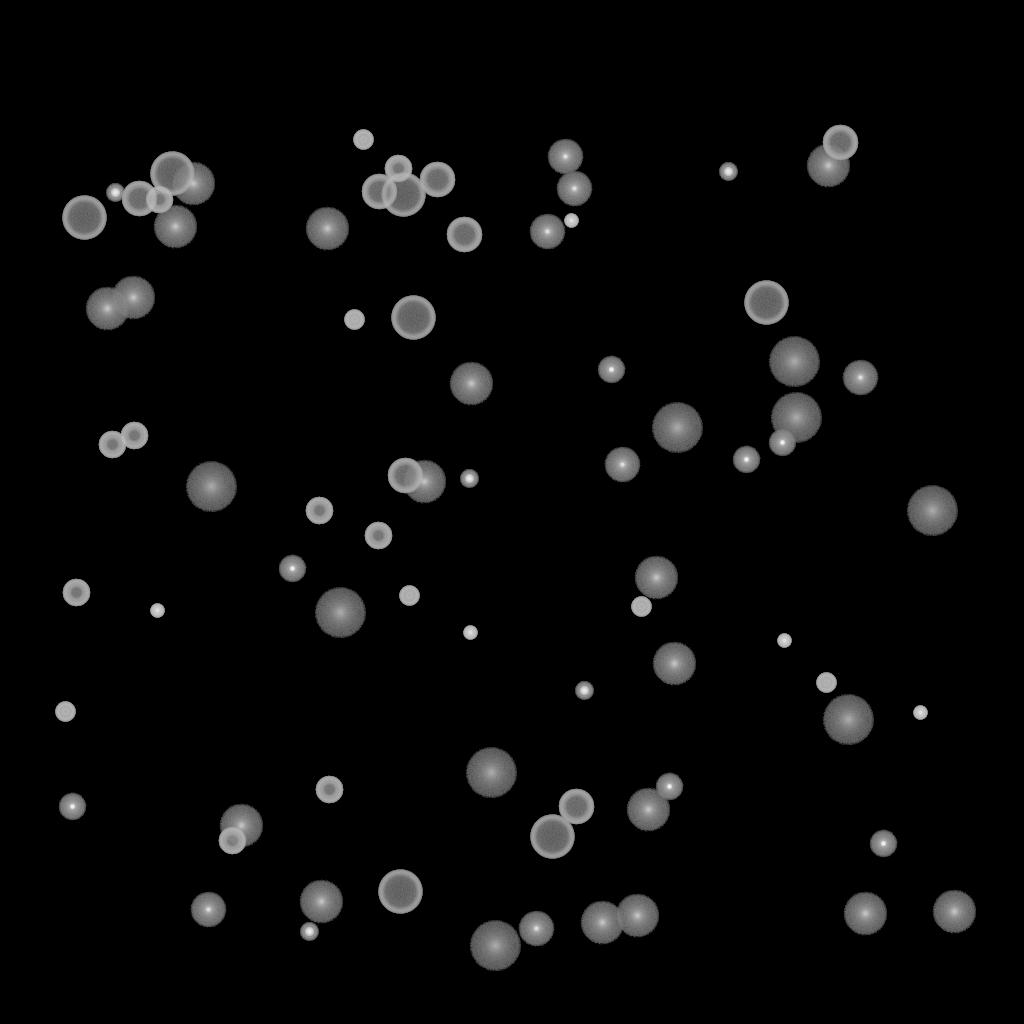depth:-10: (278, 555, 306, 583), (732, 446, 760, 474), (655, 773, 683, 801), (869, 830, 897, 858), (58, 793, 86, 821), (768, 429, 796, 457), (597, 356, 625, 384)
depth:-20: (460, 470, 478, 488), (719, 163, 737, 181), (106, 184, 124, 202), (300, 923, 318, 941), (575, 682, 593, 700)
depth:-30: (564, 214, 578, 228), (463, 626, 477, 640), (777, 634, 791, 648), (913, 706, 927, 720), (150, 604, 164, 618)
depth:-40: (55, 702, 75, 722), (399, 586, 419, 606), (353, 130, 373, 150), (631, 597, 651, 617), (816, 673, 836, 693), (344, 310, 364, 330)
depth:-50: (305, 497, 333, 525), (120, 422, 148, 450), (315, 776, 343, 804), (384, 155, 412, 183), (364, 522, 392, 550), (218, 827, 246, 855), (145, 186, 173, 214), (98, 431, 126, 459), (62, 579, 90, 607)
depth:-60: (361, 174, 397, 210), (822, 125, 858, 161), (121, 181, 157, 217), (446, 217, 482, 253), (387, 458, 423, 494), (558, 789, 594, 825), (419, 162, 455, 198)
depth:-70: (150, 152, 194, 196), (62, 196, 106, 240), (530, 815, 574, 859), (378, 870, 422, 914), (391, 296, 435, 340), (381, 173, 425, 217), (744, 281, 788, 325)
depth:0: (604, 447, 640, 483), (556, 171, 592, 207), (529, 214, 565, 250), (842, 360, 878, 396), (547, 139, 583, 175), (518, 911, 554, 947), (190, 892, 226, 928)
depth:10: (171, 162, 215, 206), (219, 804, 263, 848), (615, 894, 659, 938), (305, 207, 349, 251), (634, 556, 678, 600), (402, 460, 446, 504), (580, 901, 624, 945), (806, 144, 850, 188), (932, 890, 976, 934), (153, 205, 197, 249), (843, 892, 887, 936), (85, 287, 129, 331), (111, 276, 155, 320), (299, 880, 343, 924), (652, 642, 696, 686), (626, 788, 670, 832), (449, 362, 493, 406)
depth:20: (822, 695, 874, 745), (465, 748, 517, 798), (314, 588, 366, 638), (770, 393, 822, 443), (768, 337, 820, 387), (651, 403, 703, 453), (906, 486, 958, 536), (469, 921, 521, 971), (185, 462, 237, 512)
